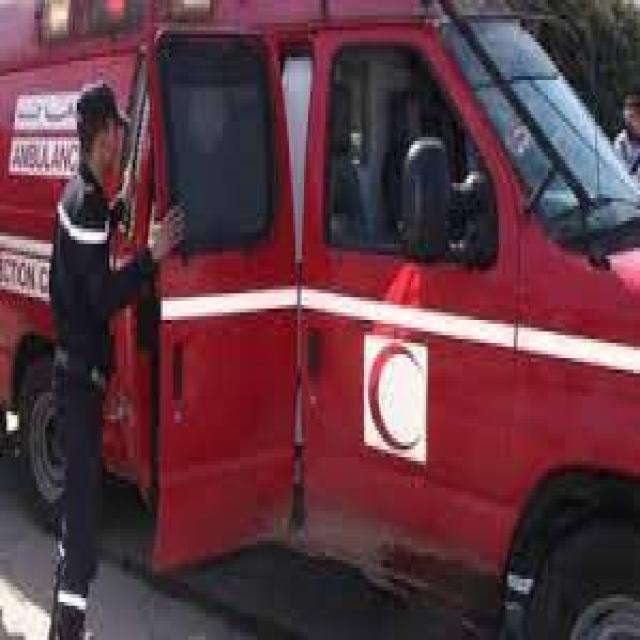ambulance: (5, 11, 633, 592)
